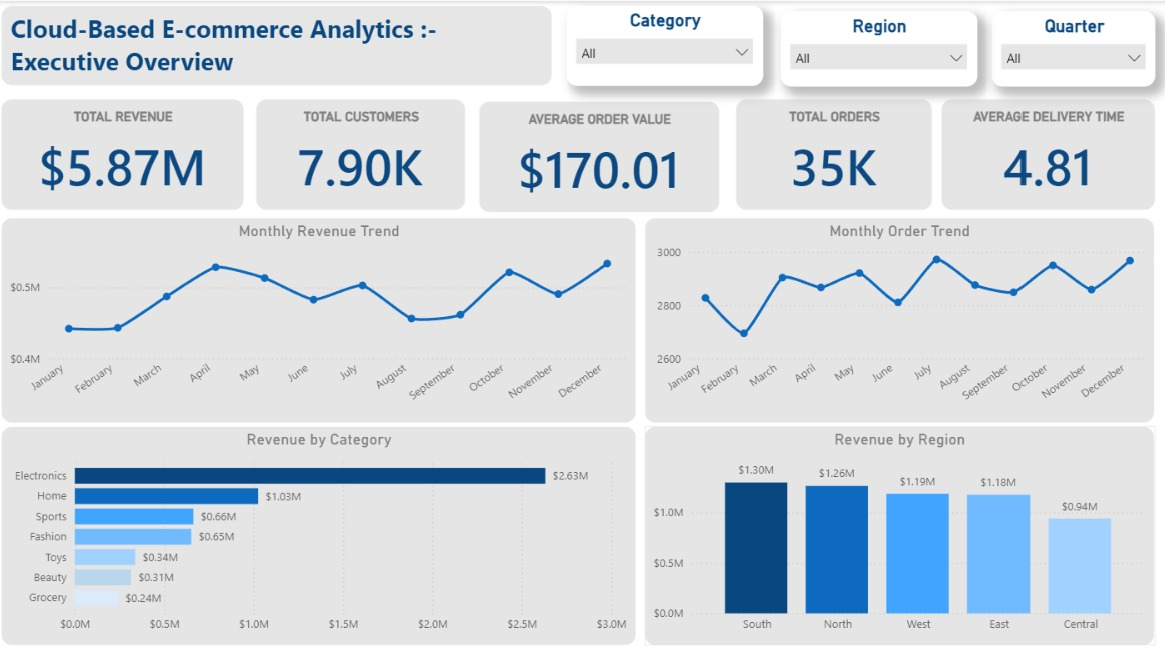

The page's visual inventory and layout, read from the dashboard file:
{"tool":"powerbi","page":{"name":"Executive Overview","canvas":[1280,720],"ordinal":0},"visuals":[{"type":"cardVisual","title":"TOTAL REVENUE","fields":{"Data":["orders.total_revenue"]},"box":[6.6,107.6,266.4,122.1],"z":0},{"type":"cardVisual","title":"TOTAL CUSTOMERS","fields":{"Data":["orders.total_customer"]},"box":[284.8,107.6,229.7,122.1],"z":1000},{"type":"cardVisual","title":"AVERAGE ORDER VALUE","fields":{"Data":["orders.average_order_value"]},"box":[528.9,108.9,263.8,122.1],"z":2000},{"type":"cardVisual","title":"TOTAL ORDERS","fields":{"Data":["orders.total_orders"]},"box":[811.1,107.6,215.3,122.1],"z":3000},{"type":"cardVisual","title":"AVERAGE DELIVERY TIME","fields":{"Data":["orders.average_delivery_time"]},"box":[1035.6,107.6,233.6,122.1],"z":4000},{"type":"lineChart","title":"Monthly Revenue Trend","fields":{"Category":["orders.order_date.Variation.Date Hierarchy.Month"],"Y":["orders.total_revenue"]},"box":[6.6,237.6,695.6,225.8],"z":5000},{"type":"lineChart","title":"Monthly Order Trend","fields":{"Category":["orders.order_date.Variation.Date Hierarchy.Month"],"Y":["orders.total_orders"]},"box":[711.4,237.6,557.8,225.8],"z":6000},{"type":"clusteredBarChart","title":"Revenue by Category","fields":{"Y":["orders.total_revenue"],"Category":["products.category"]},"box":[6.6,465.9,695.6,240.2],"z":7000},{"type":"columnChart","title":"Revenue by Region","fields":{"Category":["orders.region"],"Y":["orders.total_revenue"]},"box":[711.4,465.9,557.8,240.2],"z":8000},{"type":"textbox","box":[6.6,5.3,603.8,87.9],"z":9000},{"type":"slicer","title":"Quarter","fields":{"Values":["orders.order_date.Variation.Date Hierarchy.Quarter"]},"box":[1090.7,10.5,178.5,82.7],"z":10000},{"type":"slicer","title":"Region","fields":{"Values":["orders.region"]},"box":[859.7,10.5,215.3,82.7],"z":11000},{"type":"slicer","title":"Category","fields":{"Values":["products.category"]},"box":[626.1,5.3,215.3,87.9],"z":12000}]}

Visuals, with their boxes in screenshot pixels (x1, y1, x2, y2), scaled from the page's 1280x720 canvas onto the 1165x651 screenshot:
"TOTAL REVENUE" cardVisual: (6, 97, 248, 208)
"TOTAL CUSTOMERS" cardVisual: (259, 97, 468, 208)
"AVERAGE ORDER VALUE" cardVisual: (481, 98, 721, 209)
"TOTAL ORDERS" cardVisual: (738, 97, 934, 208)
"AVERAGE DELIVERY TIME" cardVisual: (943, 97, 1155, 208)
"Monthly Revenue Trend" lineChart: (6, 215, 639, 419)
"Monthly Order Trend" lineChart: (647, 215, 1155, 419)
"Revenue by Category" clusteredBarChart: (6, 421, 639, 638)
"Revenue by Region" columnChart: (647, 421, 1155, 638)
textbox: (6, 5, 556, 84)
"Quarter" slicer: (993, 9, 1155, 84)
"Region" slicer: (782, 9, 978, 84)
"Category" slicer: (570, 5, 766, 84)
